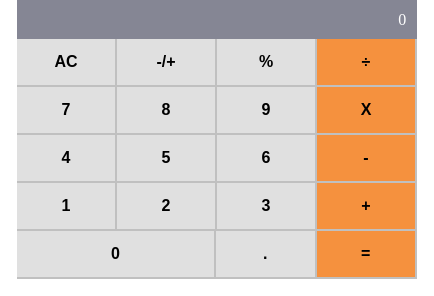
Scenario: App › clicking AC button resets result to 0
The image size is (434, 296).
Click the button "1": [67, 207] box [17,183,117,231]
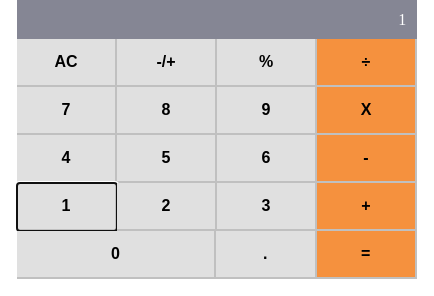
Click the button "AC": [67, 63] box [17,39,117,87]
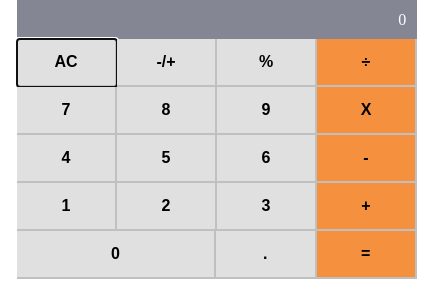
Result: the text with class "display" reads "0" at [398,11,406,28]
